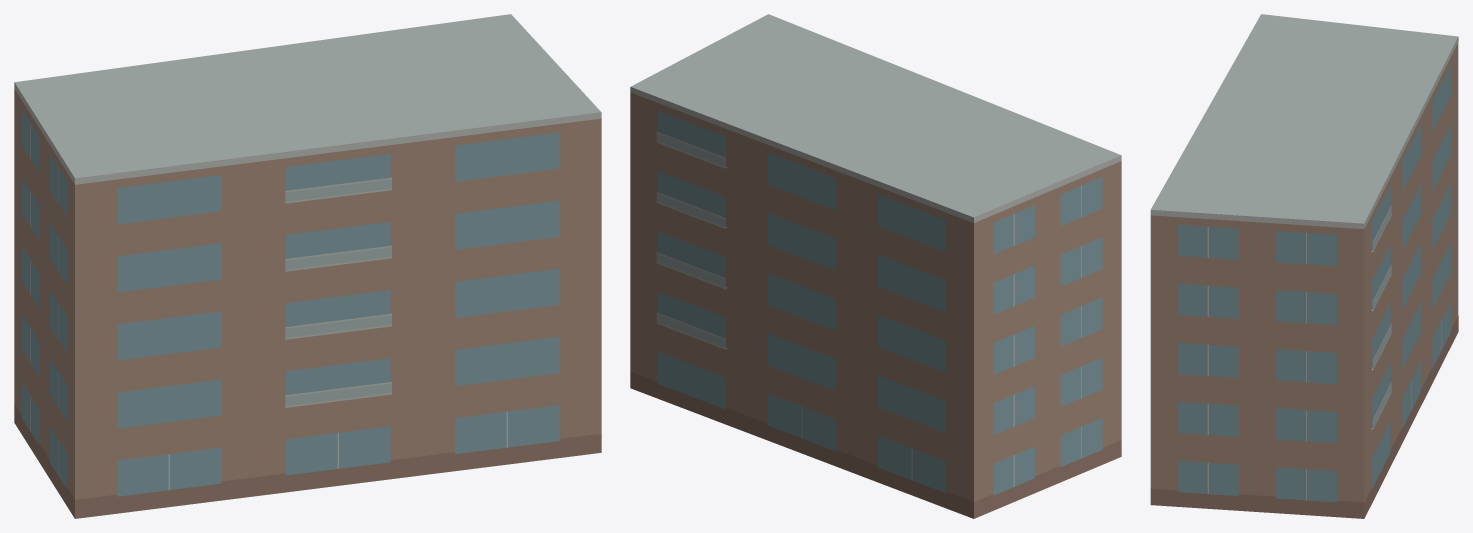
Rendered from survey-upis-32740801.glb.
3 views of the same model, side by side, from view 1: azimuth 30°, elevation 25°; view 2: azimuth 150°, elevation 25°; view 3: azimuth 270°, elevation 25° (orthographic). The views are drawn at different scales.
Visible parts, largest first — view 1: survey-upis-32740801.tmp; view 2: survey-upis-32740801.tmp; view 3: survey-upis-32740801.tmp.
Part boxes in pixels (box(x1,y1,x2,y2)): survey-upis-32740801.tmp: box(14, 14, 601, 518); survey-upis-32740801.tmp: box(630, 14, 1121, 518); survey-upis-32740801.tmp: box(1150, 14, 1458, 518).
Size of the model in its own units: 19.81 by 13 by 12.3.
